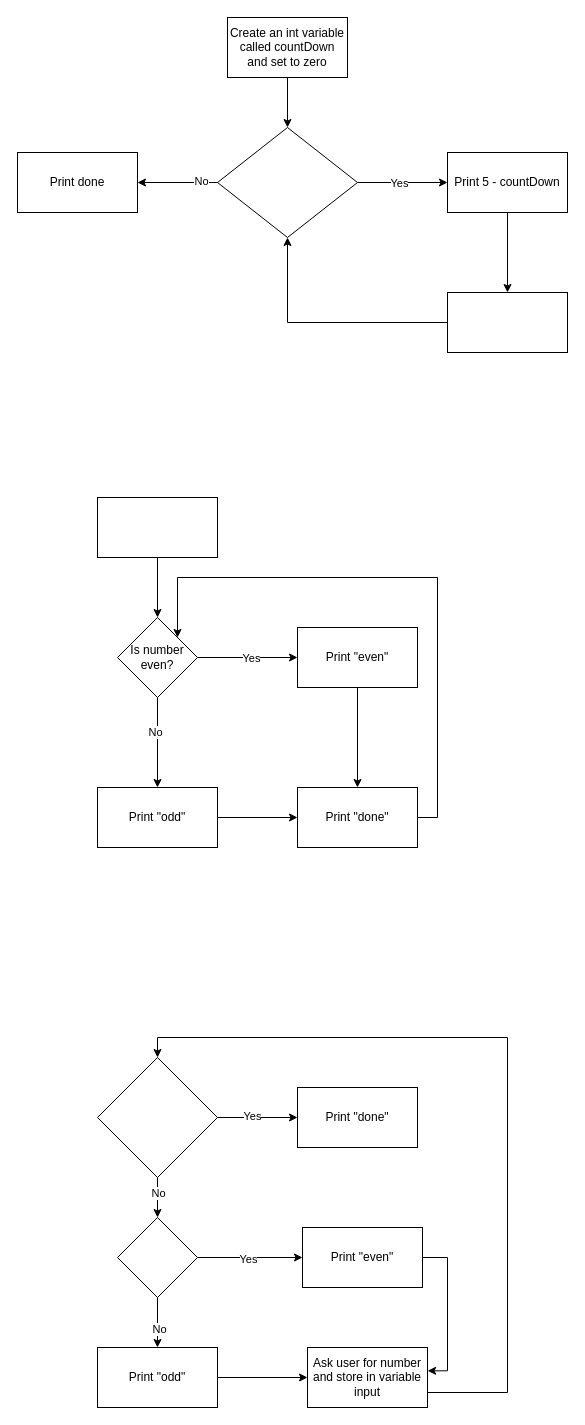
This 585x1425 diagram has some shape labels left out. The centre of each missing label's shape, as x and y in pixels:
"Get user input for variable called number" belongs at point (157, 527).
"Increment countDown" belongs at point (507, 322).
"Is countDown less than 5?" belongs at point (287, 182).
"Is input equal to zero?" belongs at point (157, 1117).
"Is the number even?" belongs at point (157, 1257).
